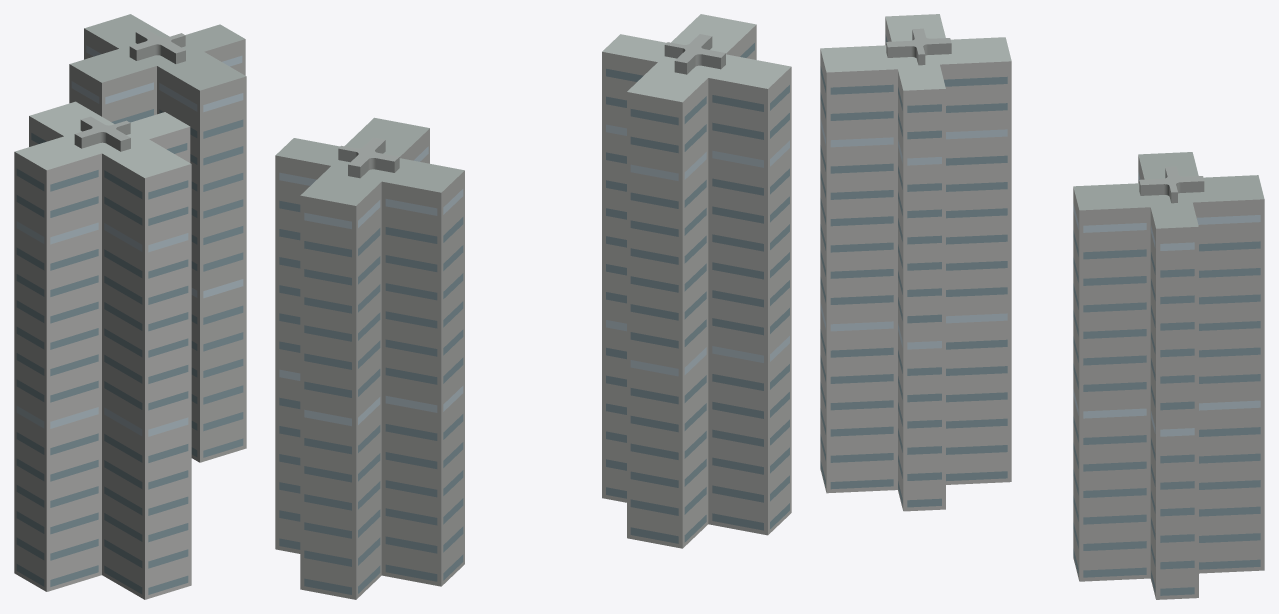
Rendered from apt-a13790723.glb.
3 renders of one model, left to right at view 1: azimuth 30°, elevation 25°; view 2: azimuth 150°, elevation 25°; view 3: azimuth 270°, elevation 25°, orthographic. The views are drawn at different scales.
Visible parts, largest first — view 1: apt-a13790723; view 2: apt-a13790723; view 3: apt-a13790723.
Part boxes in pixels (left/top/right/bottom): apt-a13790723: left=14, top=14, right=246, bottom=599; apt-a13790723: left=275, top=14, right=791, bottom=599; apt-a13790723: left=820, top=14, right=1264, bottom=599.
Size of the model in its own units: 78.85 by 96 by 89.57.
